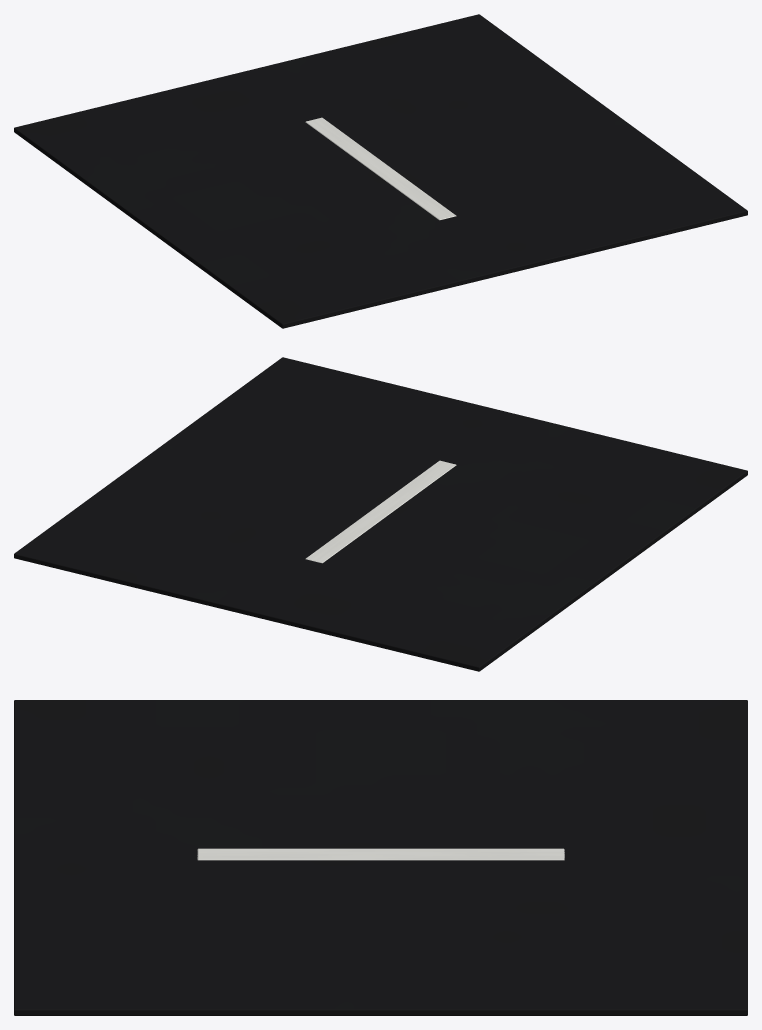
The model's file is road_lane_line.glb.
The picture shows the model from 3 angles, top to bottom: view 1: azimuth 30°, elevation 25°; view 2: azimuth 150°, elevation 25°; view 3: azimuth 270°, elevation 25°; orthographic projection. The views are drawn at different scales.
Visible parts, largest first — view 1: road_lane_line_asphalt, road_lane_line_stripe; view 2: road_lane_line_asphalt, road_lane_line_stripe; view 3: road_lane_line_asphalt, road_lane_line_stripe.
Boxes of the visible parts, bbox=[...] form: road_lane_line_asphalt: bbox=[14, 14, 747, 328]; road_lane_line_stripe: bbox=[305, 117, 456, 220]; road_lane_line_asphalt: bbox=[14, 357, 747, 671]; road_lane_line_stripe: bbox=[305, 460, 456, 563]; road_lane_line_asphalt: bbox=[14, 700, 747, 1015]; road_lane_line_stripe: bbox=[197, 848, 564, 860].
Size of the model in its own units: 4 by 0.044 by 4.
2 materials, 2 textured.
